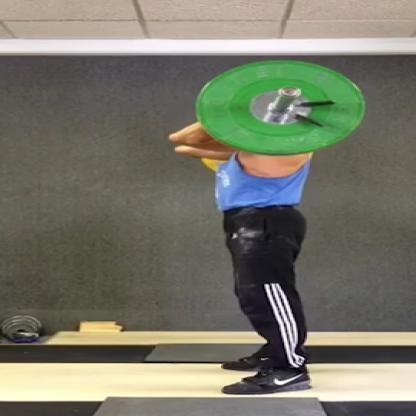barbell: (196, 62, 367, 154)
